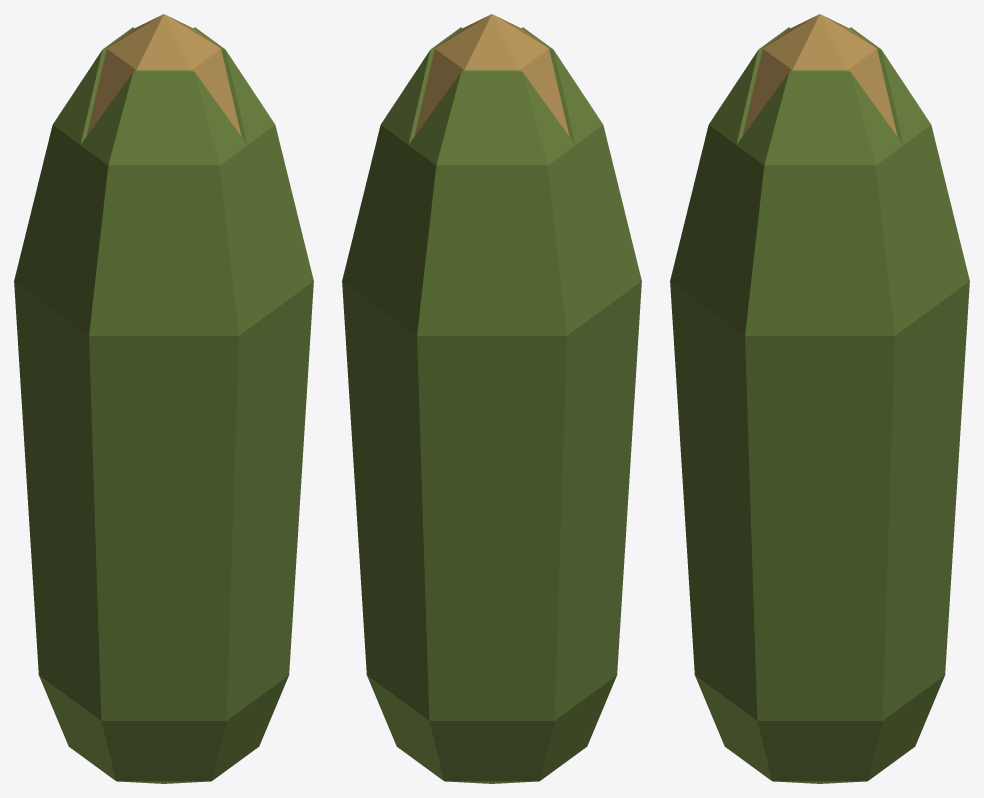
Rendered from SM_Envr_Nature_Farm_Vegetable_Corn_01.fbx.
3 renders of one model, left to right at view 1: azimuth 30°, elevation 25°; view 2: azimuth 150°, elevation 25°; view 3: azimuth 270°, elevation 25°, orthographic.
Parts seen in each view (by area): view 1: SM_Envr_Nature_Farm_Vegetable_Corn_01; view 2: SM_Envr_Nature_Farm_Vegetable_Corn_01; view 3: SM_Envr_Nature_Farm_Vegetable_Corn_01.
Part boxes in pixels (x1=…): SM_Envr_Nature_Farm_Vegetable_Corn_01: x1=14, y1=14, x2=313, y2=783; SM_Envr_Nature_Farm_Vegetable_Corn_01: x1=342, y1=14, x2=641, y2=783; SM_Envr_Nature_Farm_Vegetable_Corn_01: x1=670, y1=14, x2=969, y2=783.
Size of the model in its own units: 7.71 by 25.23 by 8.9.
